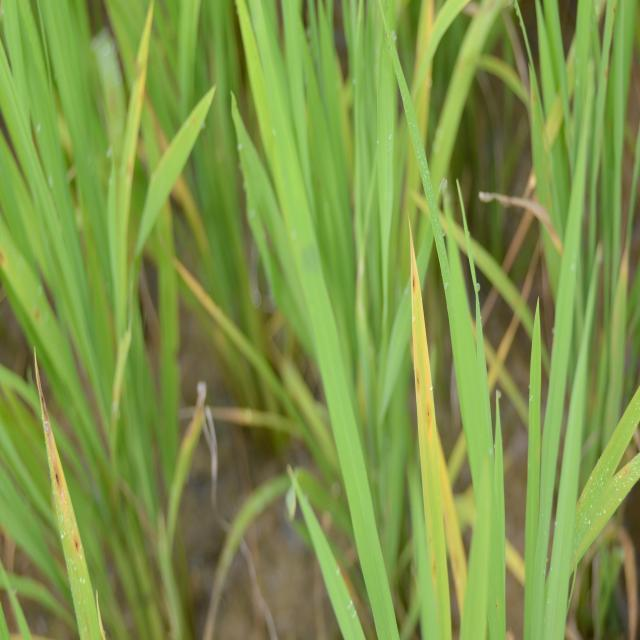Rice Tungro: (396, 244, 468, 640)
